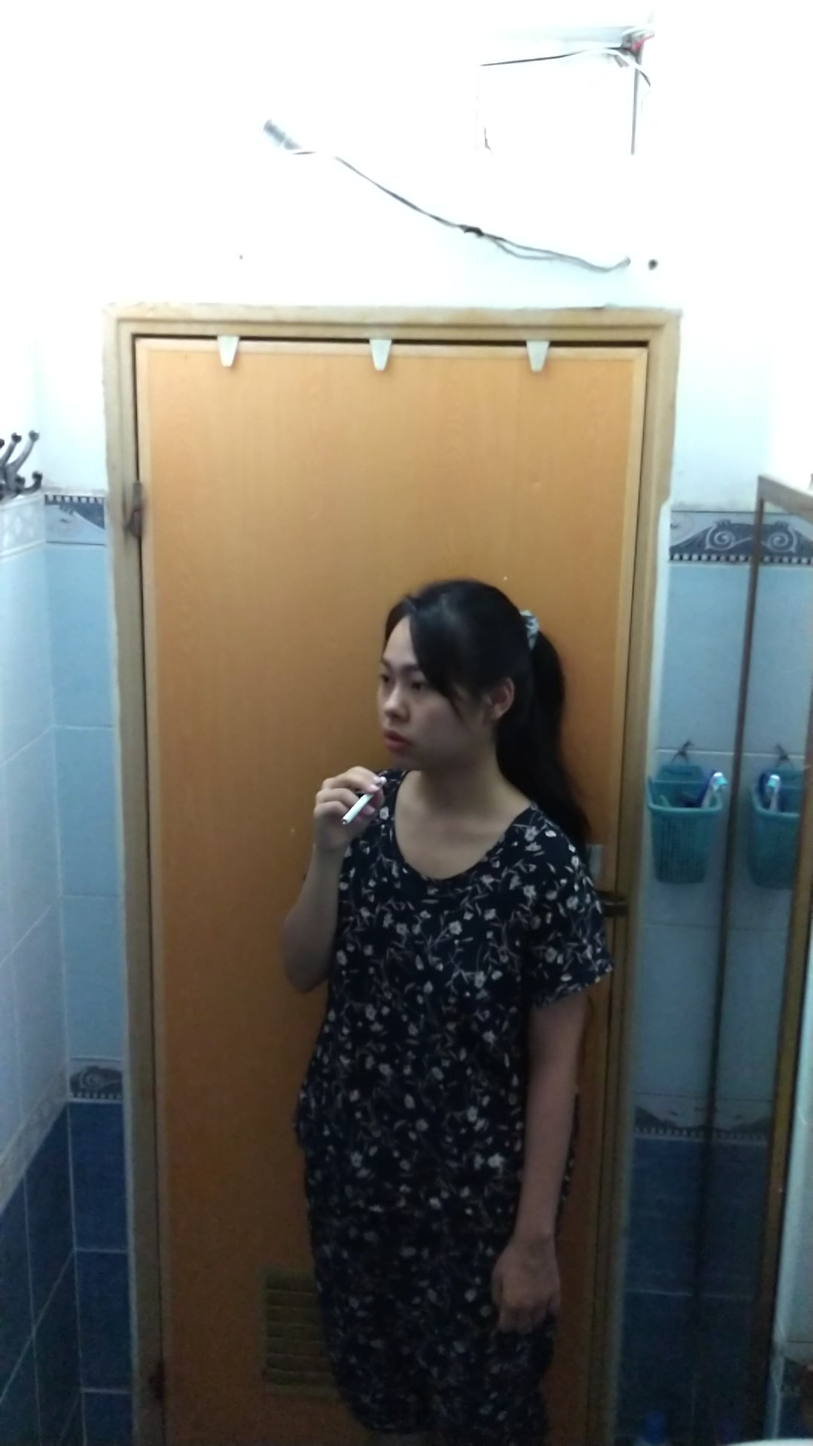cigarette: (336, 790, 372, 830)
person: (274, 564, 619, 1436)
